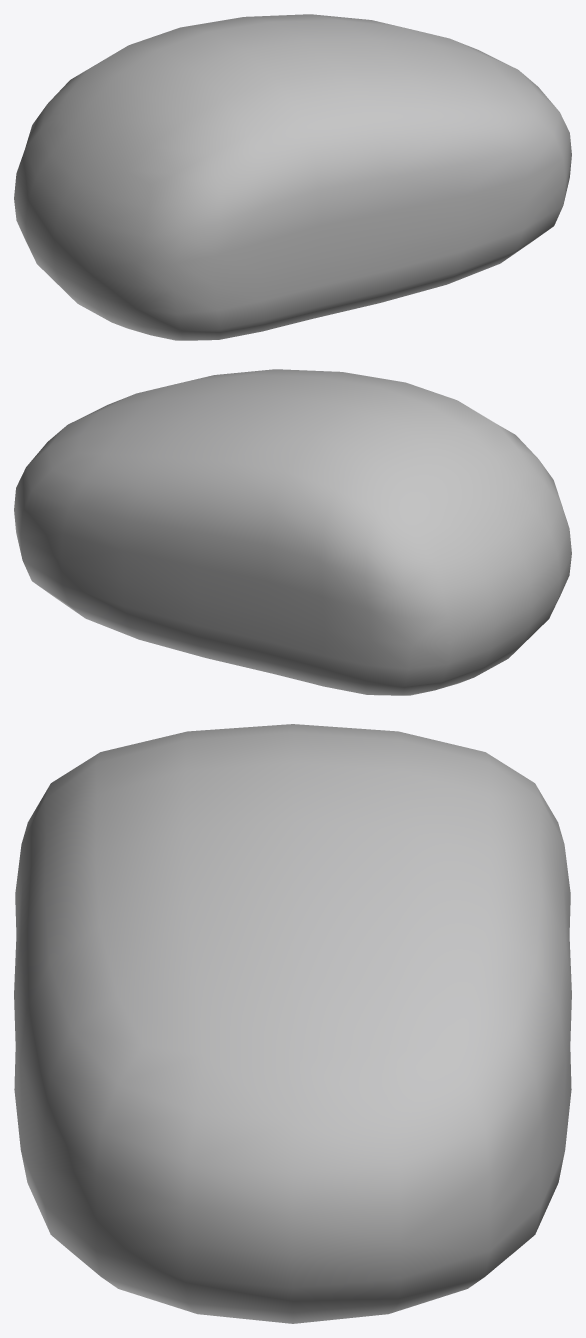
Rendered from Farm_20_Stone_1.glb.
3 renders of one model, top to bottom at view 1: azimuth 30°, elevation 25°; view 2: azimuth 150°, elevation 25°; view 3: azimuth 270°, elevation 25°, orthographic. The views are drawn at different scales.
Parts seen in each view (by area): view 1: Farm_20_Stone_1; view 2: Farm_20_Stone_1; view 3: Farm_20_Stone_1.
Part boxes in pixels (x1,y1,x2,y2): Farm_20_Stone_1: (14,14,571,340); Farm_20_Stone_1: (14,369,571,695); Farm_20_Stone_1: (14,724,571,1323).
Size of the model in its own units: 0.888 by 0.4028 by 0.5323.
Materials: 1 (1 with a texture image).
